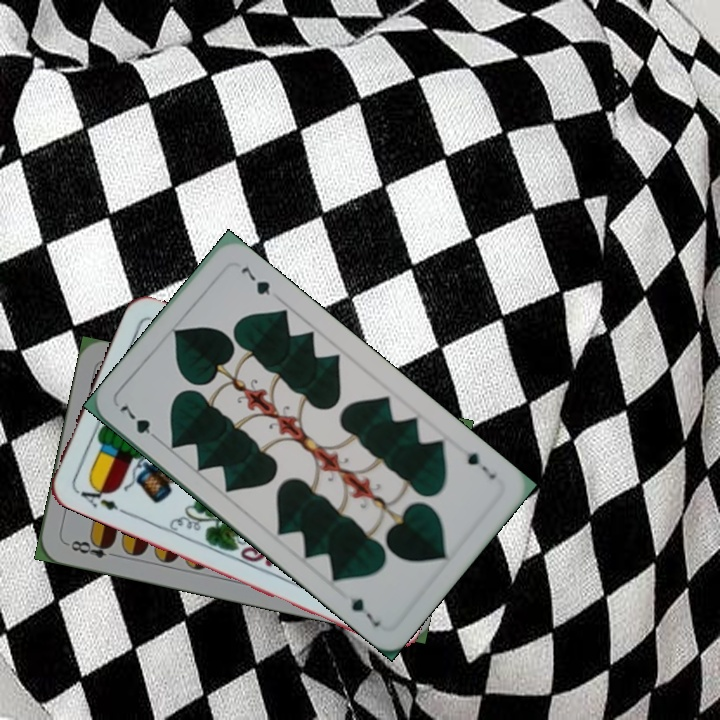E8: (62, 535, 121, 561)
EA: (71, 480, 128, 516)
G7: (115, 401, 163, 445), (462, 448, 499, 482)
